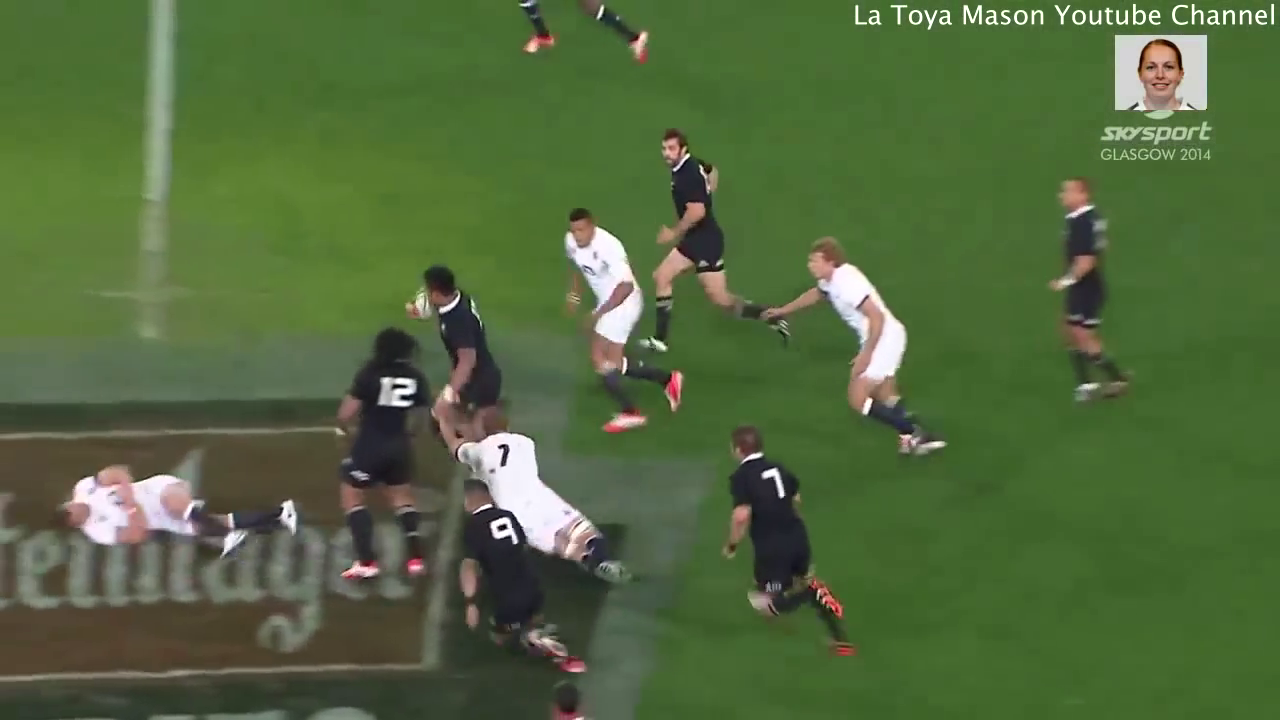ball: (400, 272, 446, 336)
player: (752, 230, 960, 465), (441, 392, 665, 604), (625, 124, 811, 362), (706, 416, 873, 662), (542, 201, 695, 436), (439, 468, 602, 680), (325, 318, 442, 587), (41, 455, 313, 563), (1035, 169, 1148, 412), (400, 261, 512, 456)
